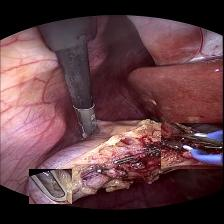Bipolar: (161, 122, 224, 168)
Grasper: (29, 168, 72, 203), (72, 102, 102, 138)
